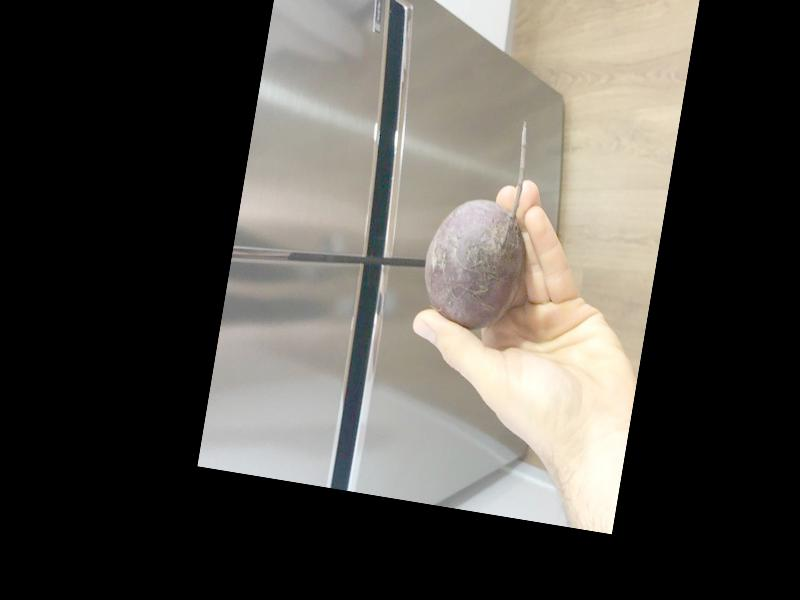Beet: (415, 108, 547, 335)
